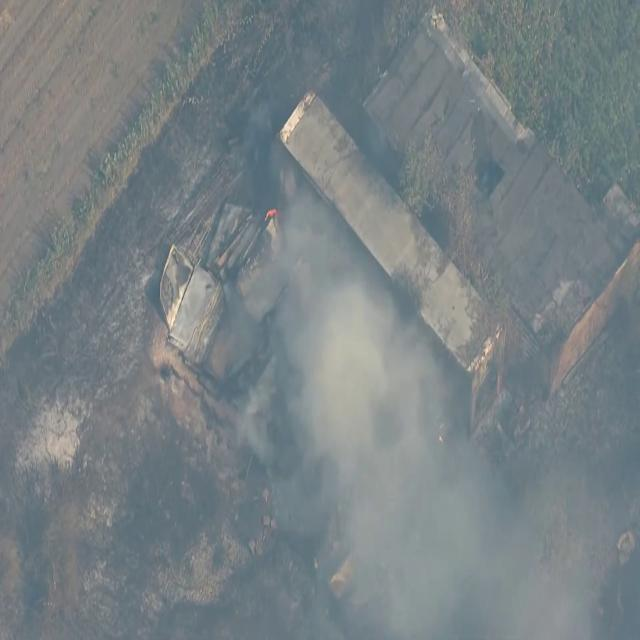Smoke: (298, 285, 399, 470)
